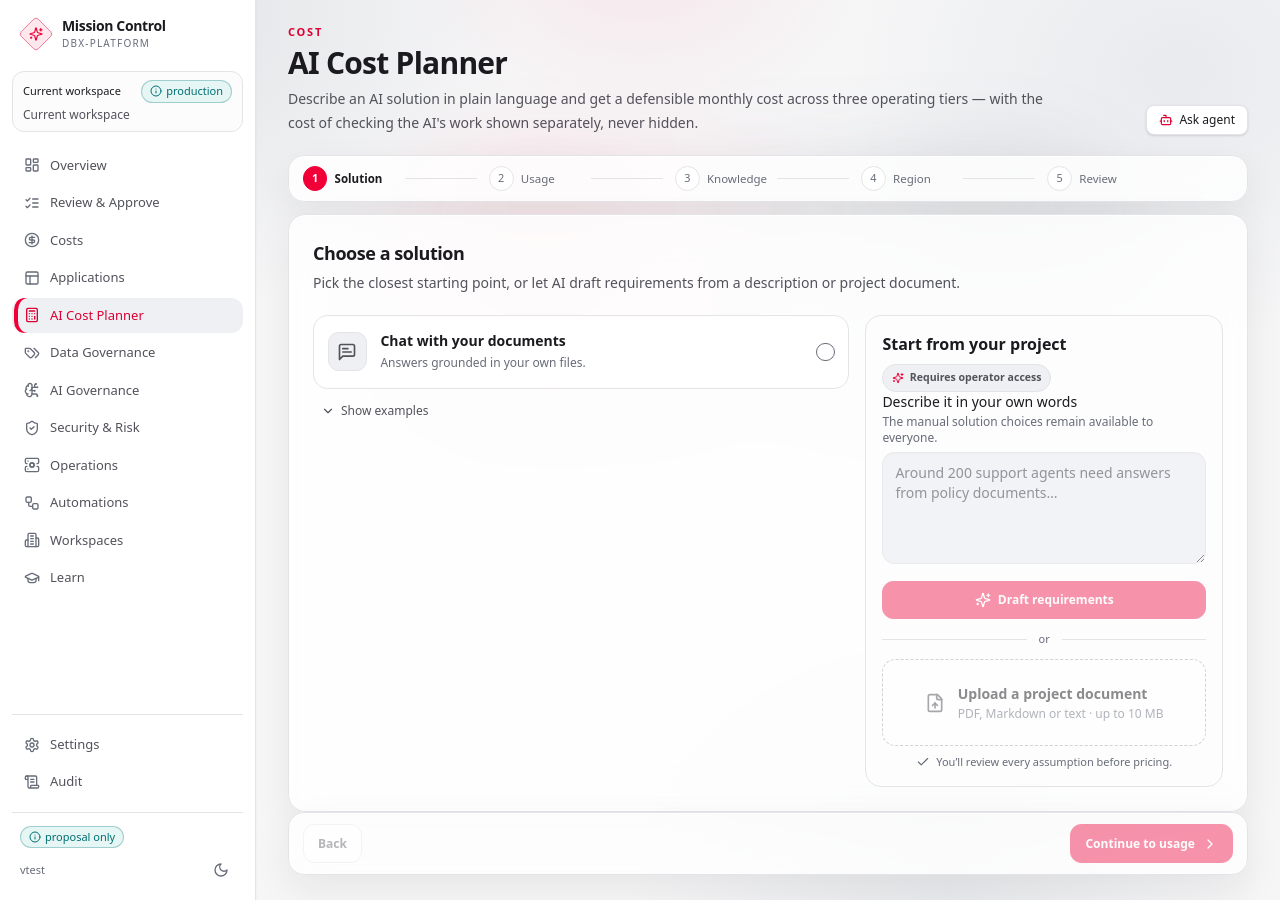
Test: Cost Planner shows a friendly first-run pricing snapshot message
Step 1. Click the radio button labelled "Chat with your documents Answers grounded in your own files." → (581,352), box [313,315,849,389]
(page scrolled)
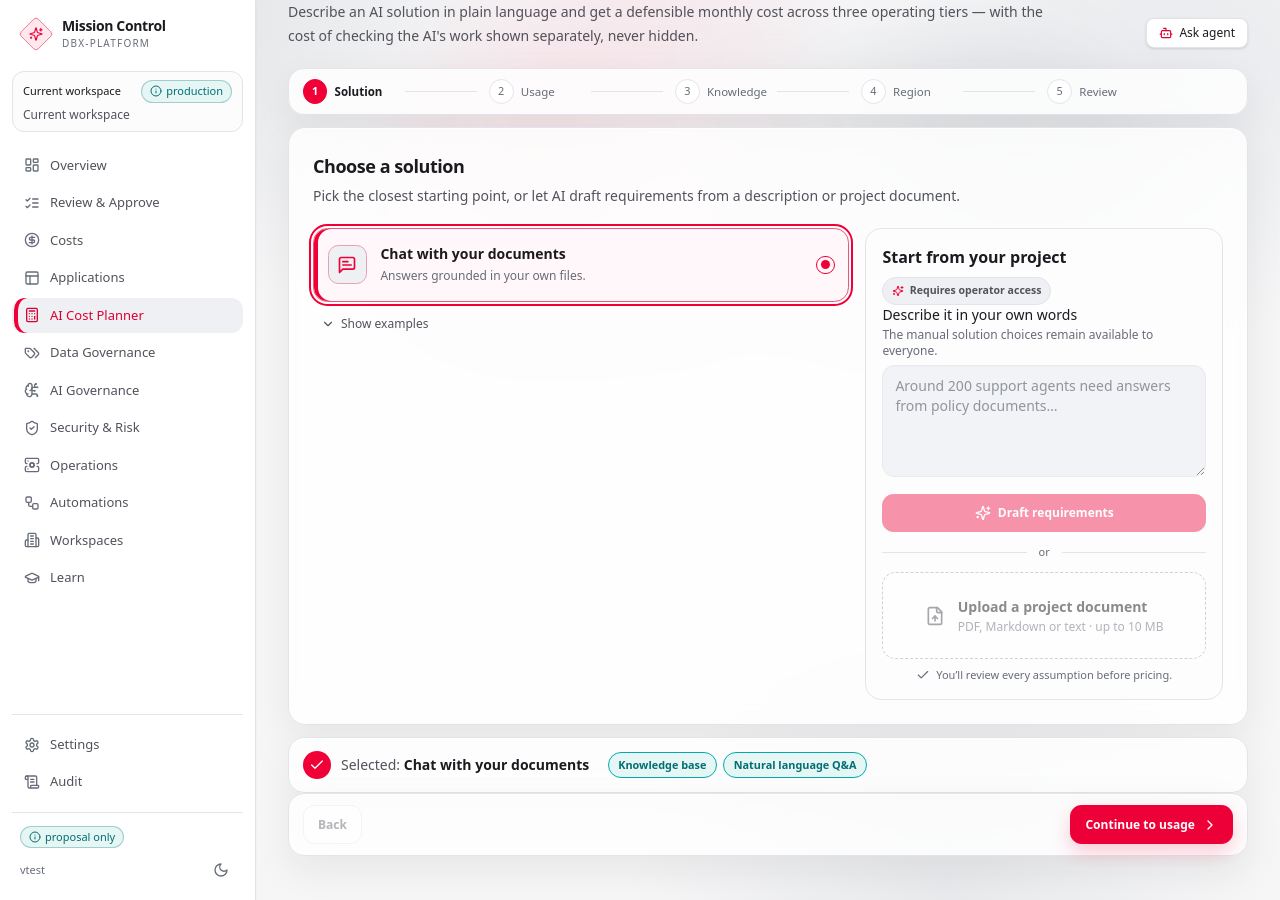
Step 2. Click the button "Continue to usage" → (1152,825), box [1070,806,1233,844]
(page scrolled)
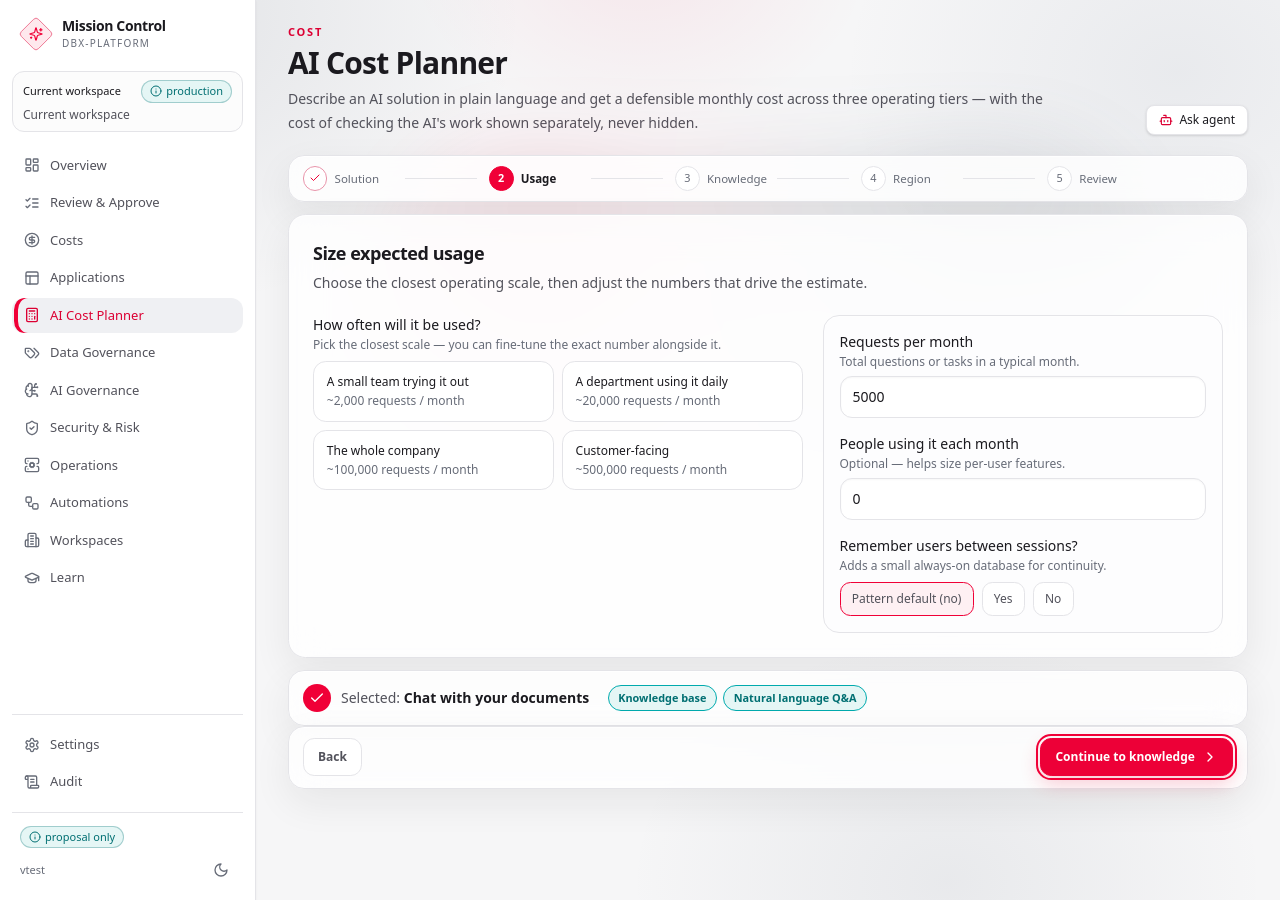
Step 3. Click the button "Continue to knowledge" → (1137,757), box [1040,738,1233,776]
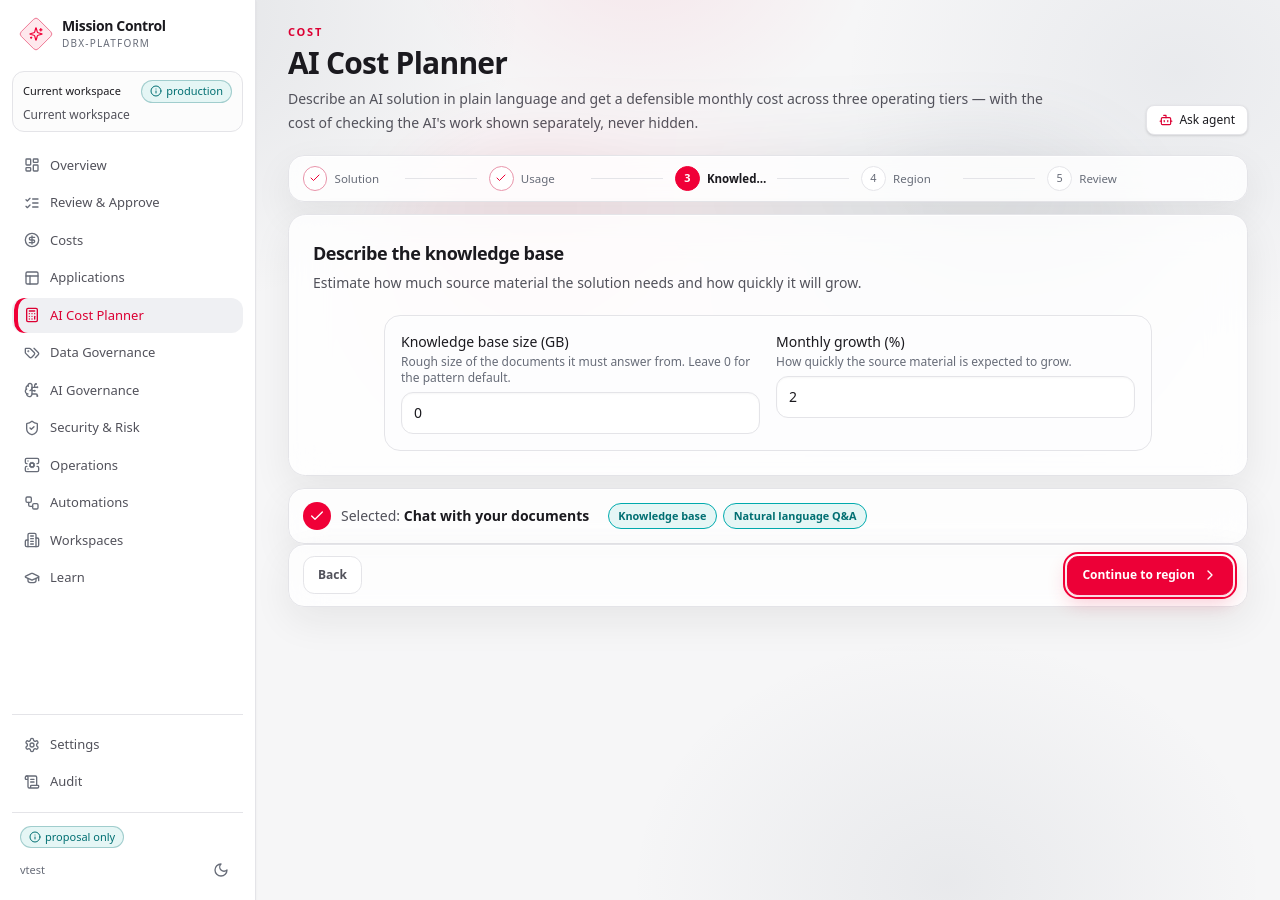
Step 4. Click the button "Continue to region" → (1150,576), box [1067,556,1233,595]
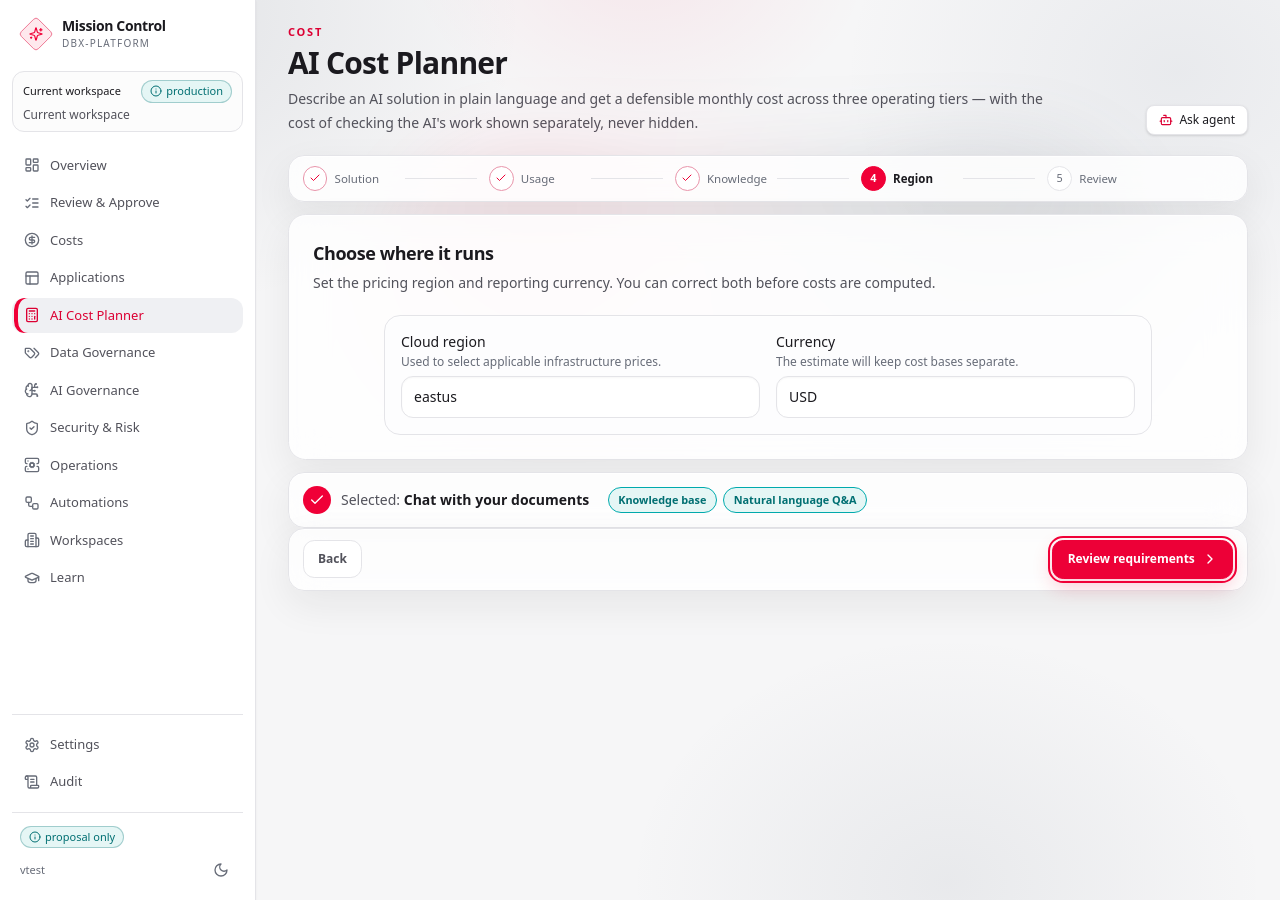
Step 5. Click the button "Review requirements" → (1143,560), box [1052,540,1234,579]
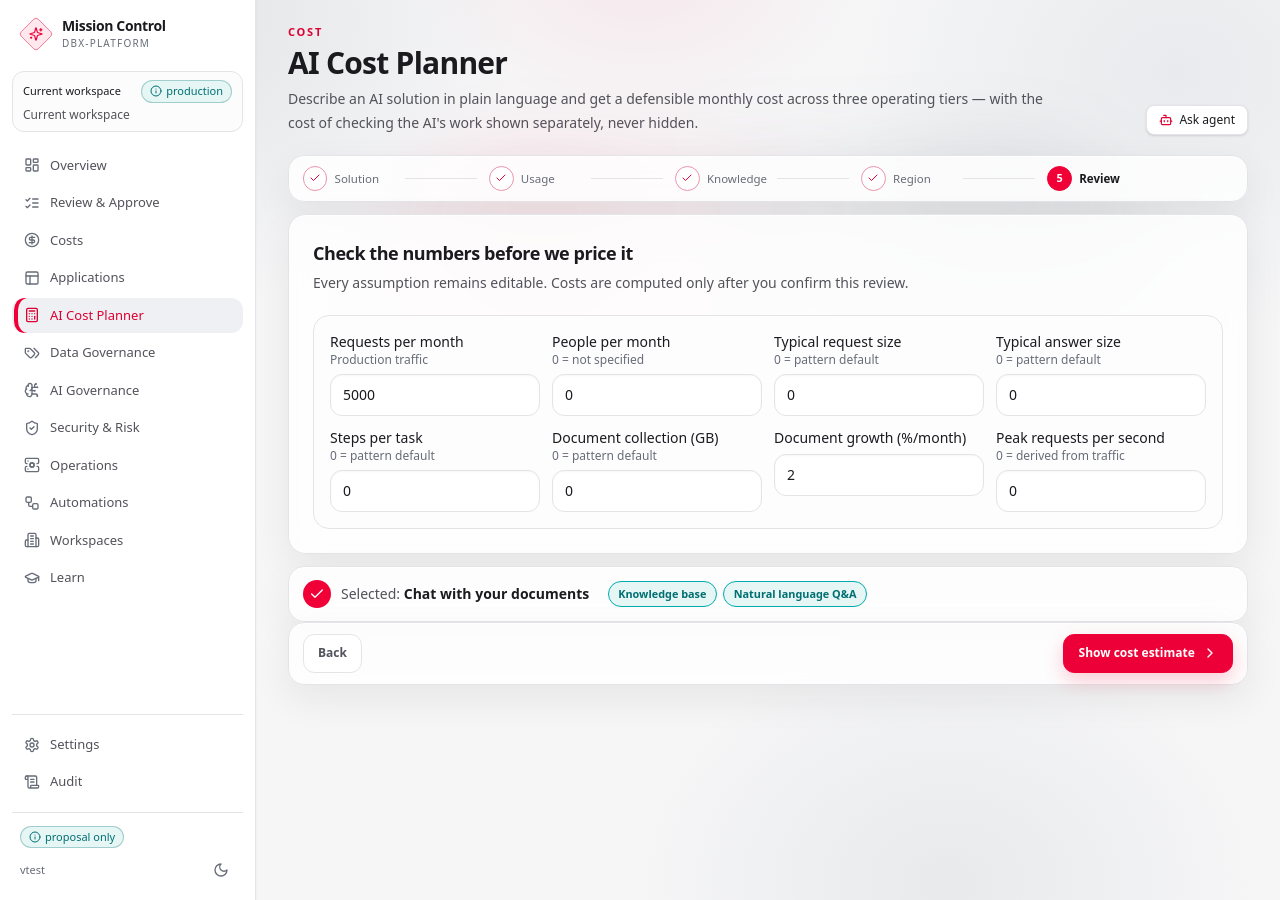
Step 6. Click the button "Show cost estimate" → (1148,654), box [1063,634,1233,673]
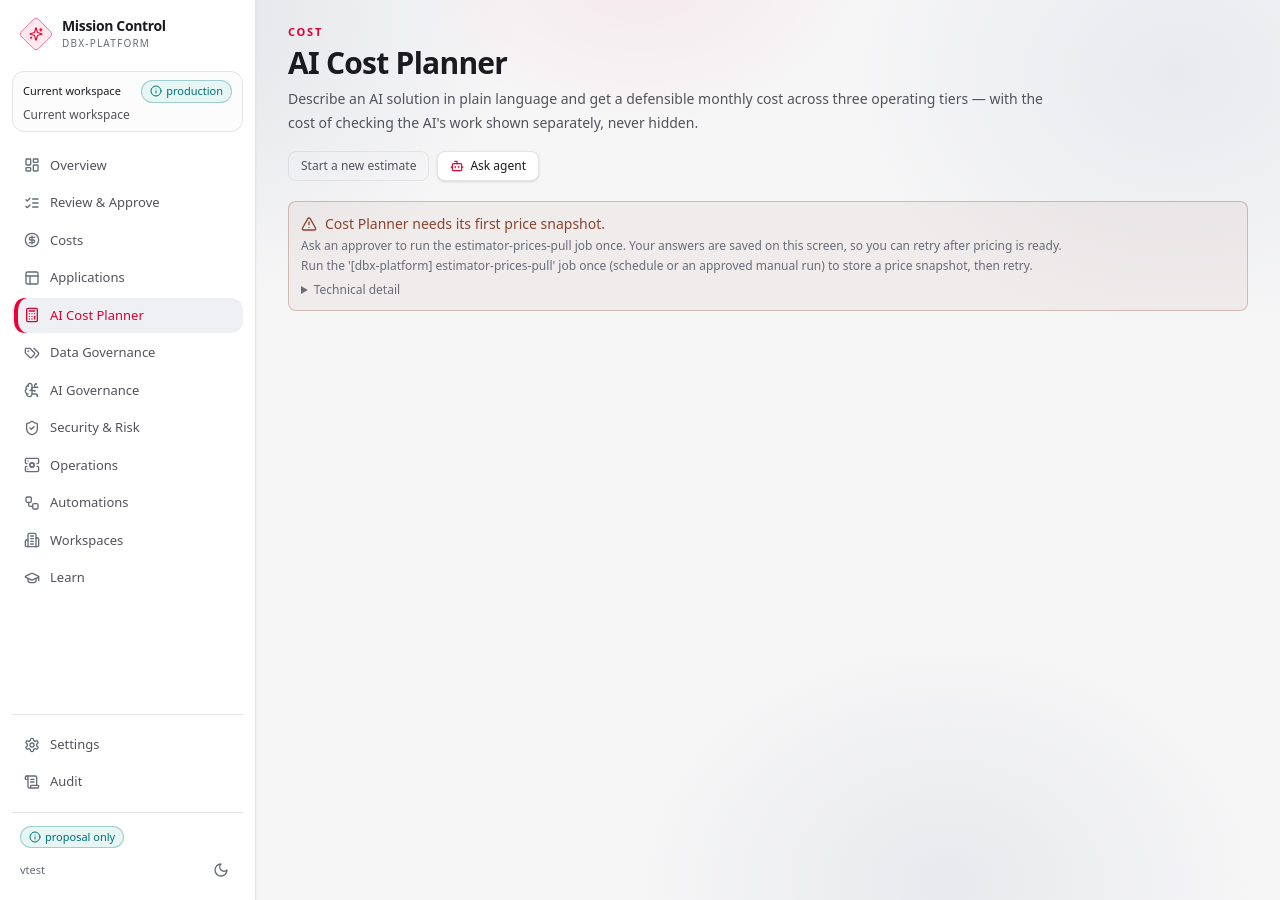
Expected: the text "Cost Planner needs its first price snapshot." is shown, [301,214,605,232]
Expected: the text "Ask an approver to run the estimator-prices-pull job once" is shown, [301,236,1062,254]
